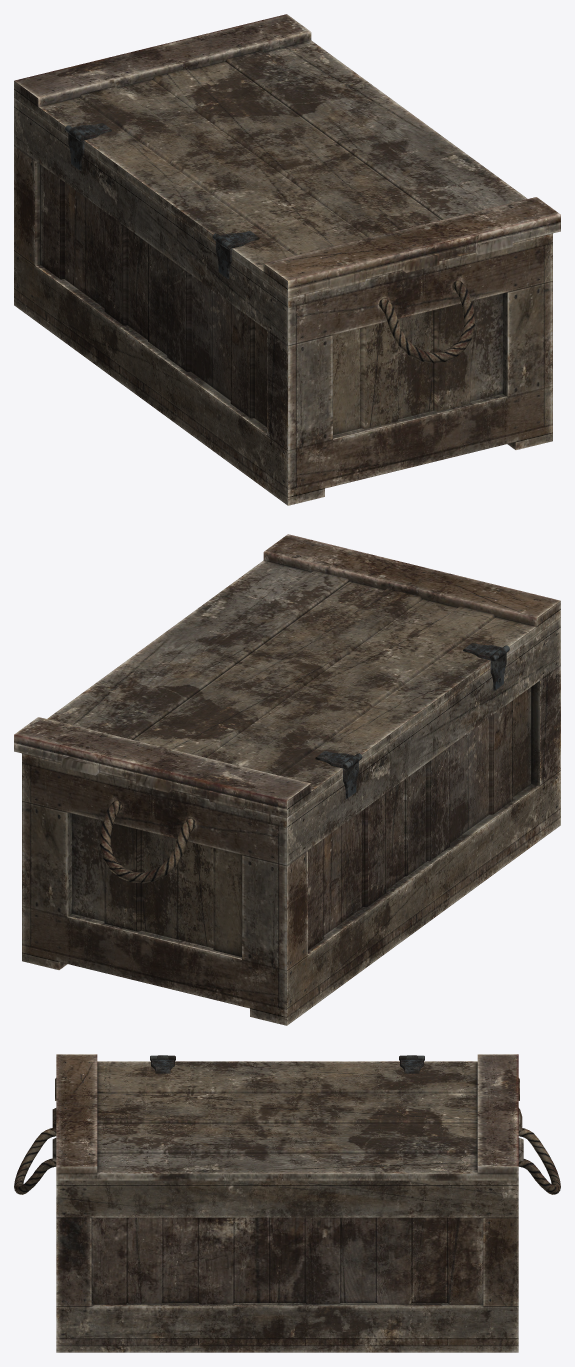
Rendered from crate_wooden.dae.
3 views of the same model, one above another, from view 1: azimuth 30°, elevation 25°; view 2: azimuth 150°, elevation 25°; view 3: azimuth 270°, elevation 25° (orthographic). The views are drawn at different scales.
Parts seen in each view (by area): view 1: box__2_, lid__2_; view 2: box__2_, lid__2_; view 3: box__2_, lid__2_.
Boxes of the visible parts, <box> form: box__2_: <box>14,97,552,505</box>; lid__2_: <box>14,14,560,297</box>; box__2_: <box>22,617,560,1025</box>; lid__2_: <box>14,534,560,817</box>; box__2_: <box>14,1055,560,1352</box>; lid__2_: <box>52,1054,523,1180</box>.
Bounding box in the file's own units: 0.9415 × 0.7252 × 1.9.
